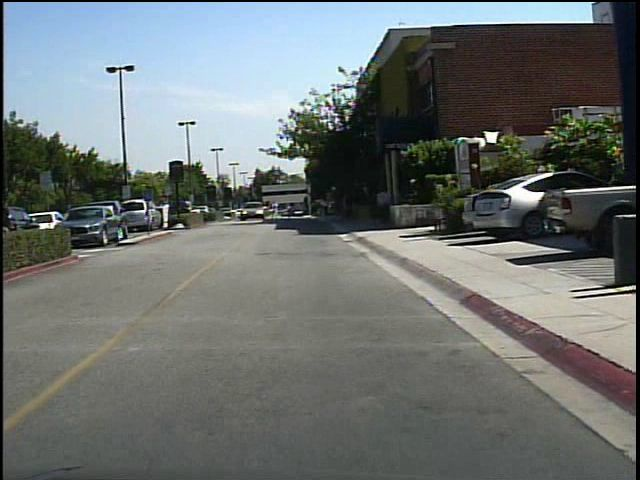person: (270, 196, 282, 224)
